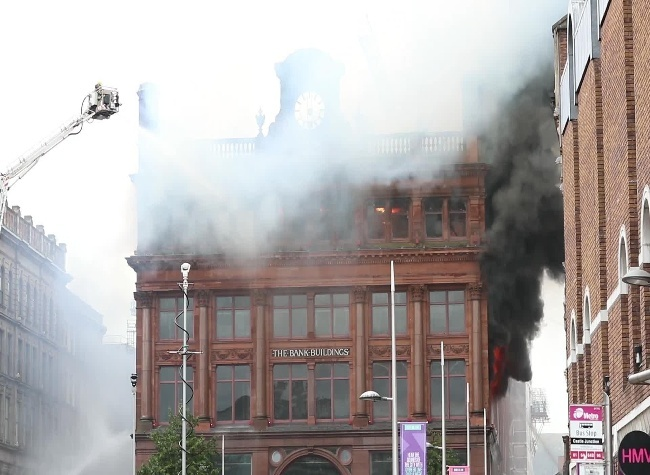Fire: (490, 344, 508, 398)
Smoke: (491, 95, 562, 378)
